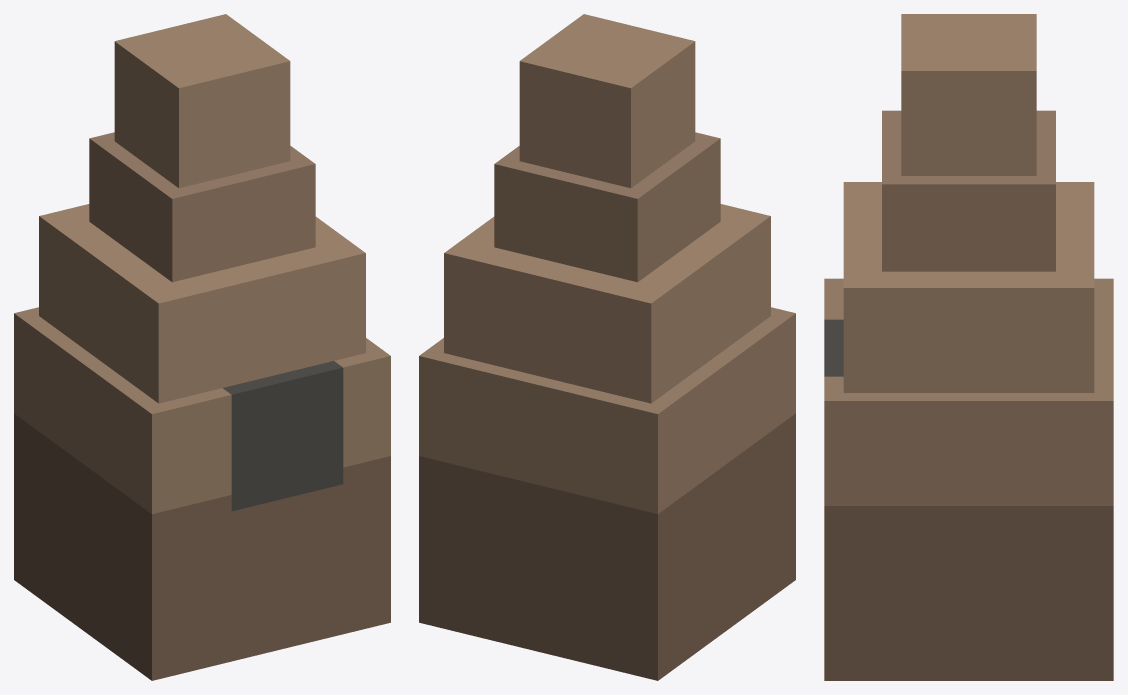
File: horno_pan_agrietada_01.glb
3 views of the same model, side by side, from view 1: azimuth 30°, elevation 25°; view 2: azimuth 150°, elevation 25°; view 3: azimuth 270°, elevation 25° (orthographic). The views are drawn at different scales.
Parts seen in each view (by area): view 1: horno_pan_agrietada; view 2: horno_pan_agrietada; view 3: horno_pan_agrietada.
Boxes of the visible parts, x1,y1,x2,y2 form: horno_pan_agrietada: (14, 14, 390, 680); horno_pan_agrietada: (419, 14, 795, 680); horno_pan_agrietada: (824, 14, 1113, 680).
Bounding box in the file's own units: 1 × 2.2 × 1.
